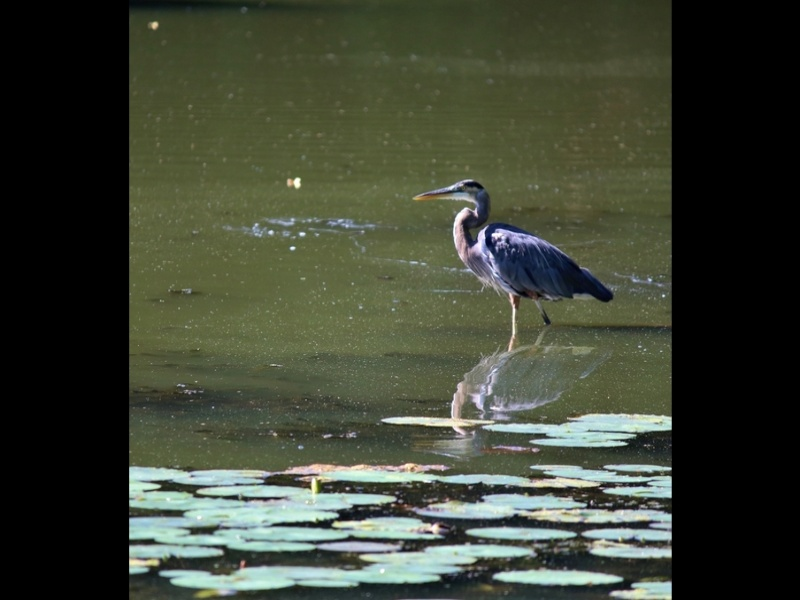heron: (410, 173, 619, 343)
